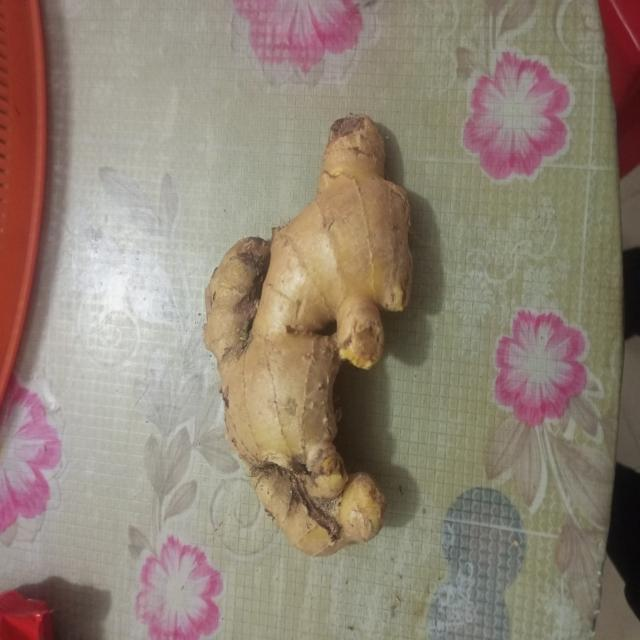ginger: (212, 131, 448, 535)
